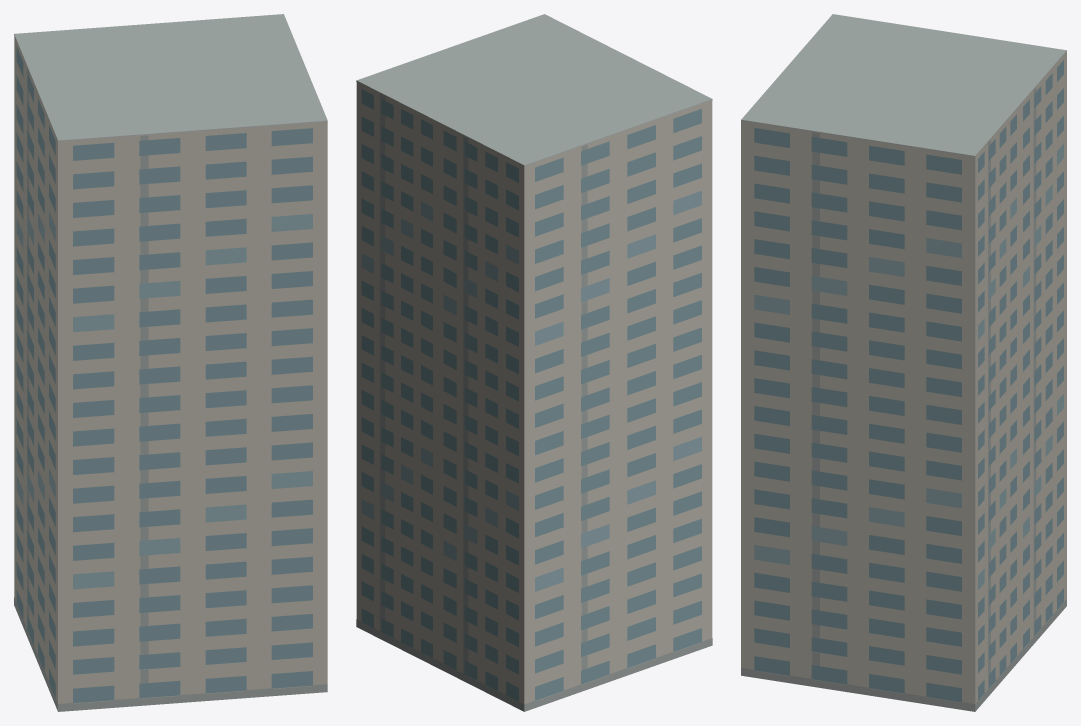
Rendered from residential-7e4e9919-c28b-493a-9715-190090233528.glb.
The picture shows the model from 3 angles, left to right: view 1: azimuth 30°, elevation 25°; view 2: azimuth 150°, elevation 25°; view 3: azimuth 270°, elevation 25°; orthographic projection. The views are drawn at different scales.
Visible parts, largest first — view 1: residential-7e4e9919-c28b-493a-9715-190090233528.tmp; view 2: residential-7e4e9919-c28b-493a-9715-190090233528.tmp; view 3: residential-7e4e9919-c28b-493a-9715-190090233528.tmp.
Part boxes in pixels (<box>): residential-7e4e9919-c28b-493a-9715-190090233528.tmp: <box>14,14,327,711</box>; residential-7e4e9919-c28b-493a-9715-190090233528.tmp: <box>356,14,712,711</box>; residential-7e4e9919-c28b-493a-9715-190090233528.tmp: <box>741,14,1066,711</box>.
Bounding box in the file's own units: 49.29 × 90 × 47.8.
